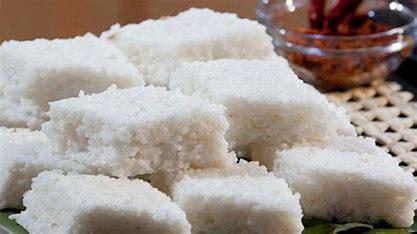Kiribath: (4, 16, 299, 233)
